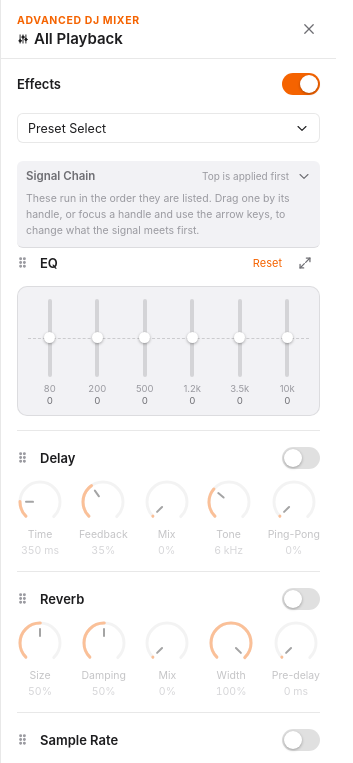
Test: AdvancedMixer effects-area explanations › keeps each effects area explanation visually separate and collapsible
Expected: the element with class "effects-explanation" shows "These run in the order they are listed.", [26,192,290,237]
Expected: the element with class "header__title" does not show "Signal Chain"
Click the button "Signal Chain Top is applied first".
click(61, 176)  # box [17,161,320,191]
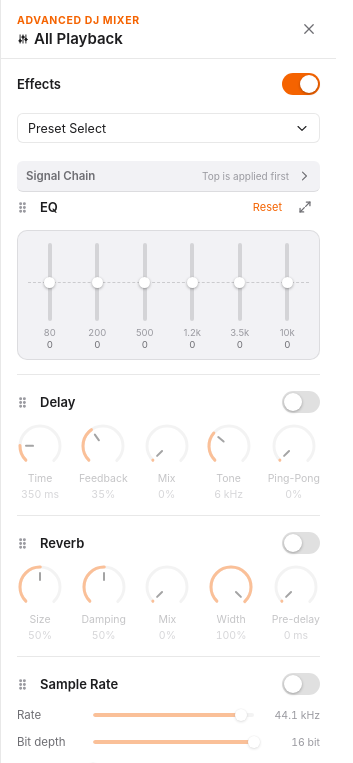
Expected: the element with class "effects-explanation" reads "Signal Chain Top is applied first", [17,161,320,192]
Expected: the text with class "effects-explanation" no longer shows "These run in the order they are listed."
